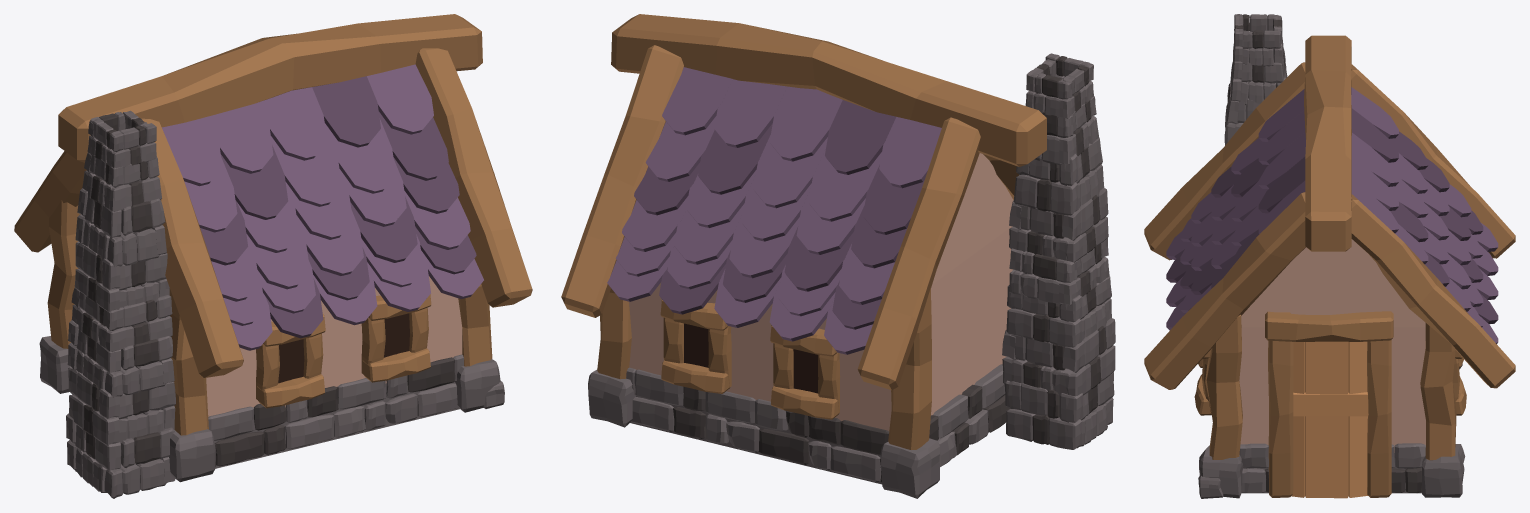
The model's file is MainBuildingT1.fbx.
The picture shows the model from 3 angles, left to right: view 1: azimuth 30°, elevation 25°; view 2: azimuth 150°, elevation 25°; view 3: azimuth 270°, elevation 25°; orthographic projection. The views are drawn at different scales.
Parts seen in each view (by area): view 1: BEAM; view 2: BEAM; view 3: BEAM.
Part boxes in pixels (x1,y1,x2,y2): BEAM: (14,14,532,498); BEAM: (561,14,1115,498); BEAM: (1144,14,1515,498).
Size of the model in its own units: 1017 by 820 by 831.
